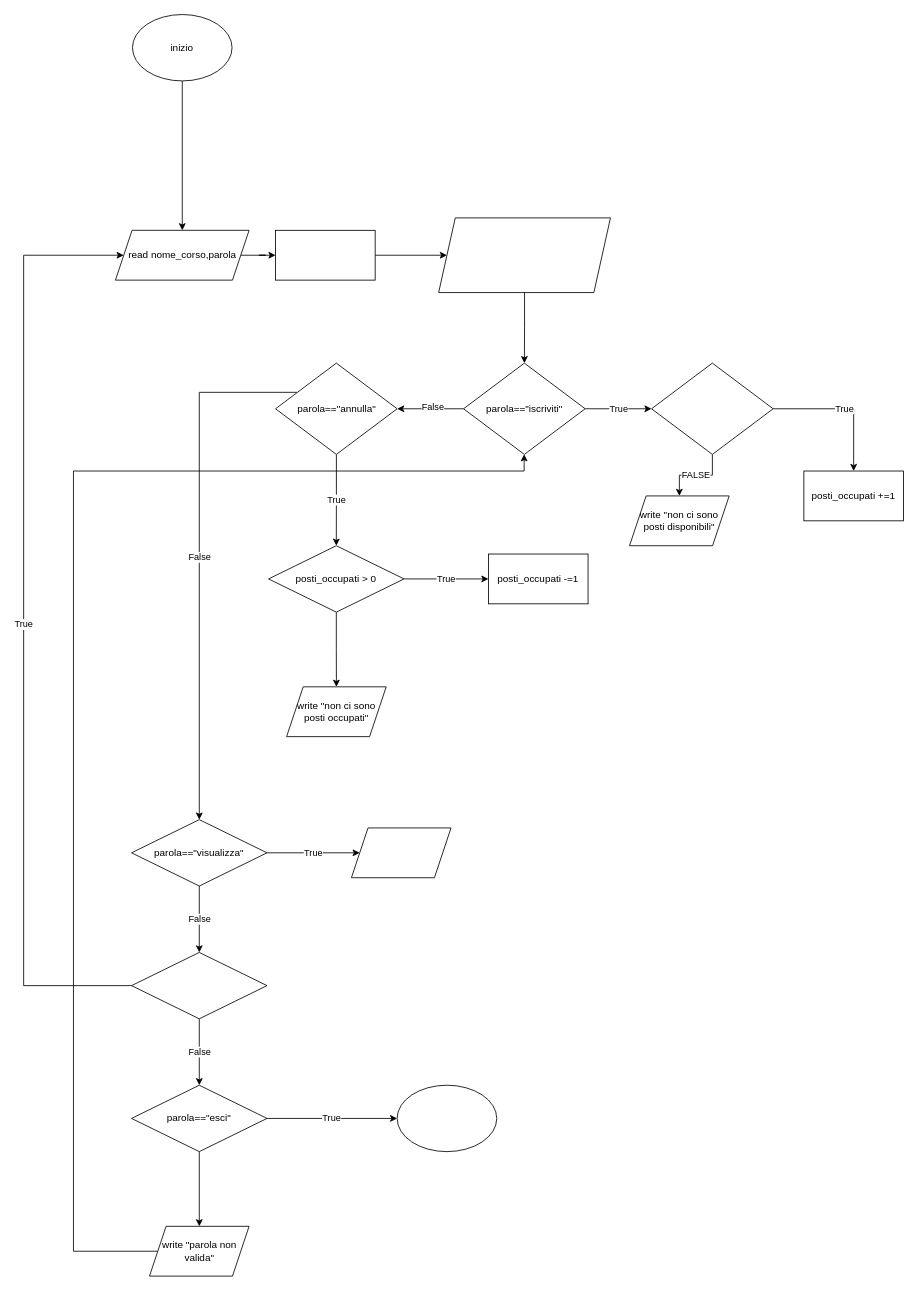
The diagram is 918 pixels wide and 1291 high, and some of its shapes have lost their labels. Each missing label, with the centre of its shape:
fine: (446,1118)
max=100, posti_occupati=0, posti_disponibili=0: (325,254)
parola=="elimina": (199,985)
posti_disponibili < max: (712,408)
write "iscrivi", "annulla", "visualizza", "elimina", "Esci": (524,255)
write posti_liberi, posti_occupati: (401,852)
